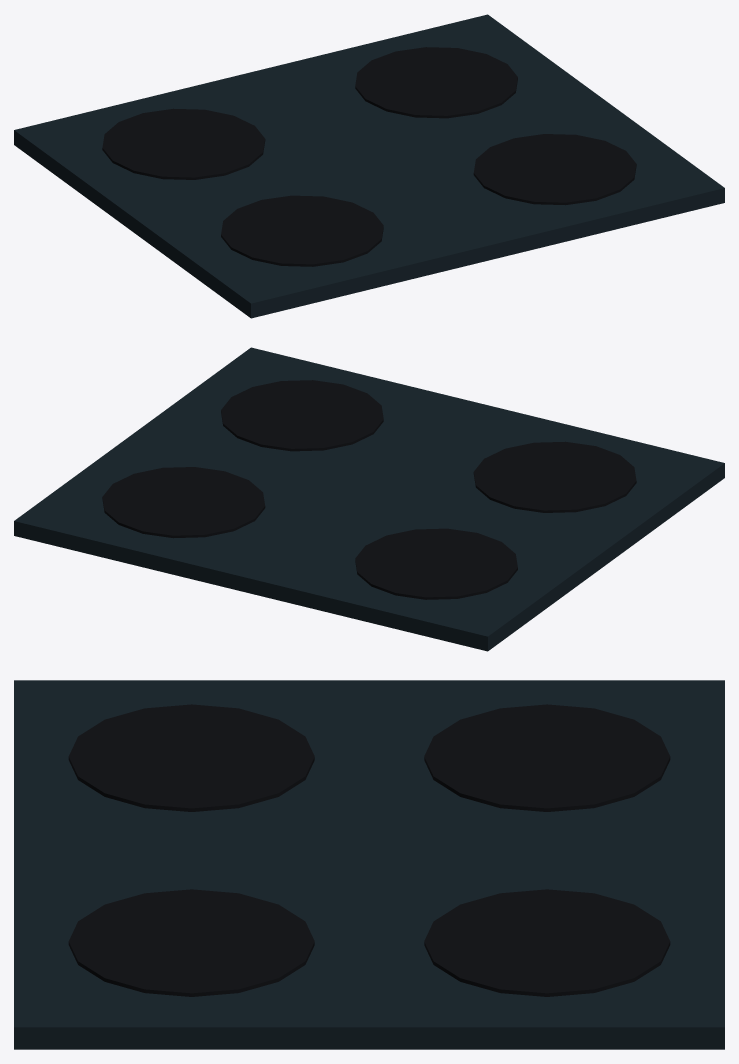
Rendered from Fozolap_60.obj.
3 renders of one model, top to bottom at view 1: azimuth 30°, elevation 25°; view 2: azimuth 150°, elevation 25°; view 3: azimuth 270°, elevation 25°, orthographic. The views are drawn at different scales.
Bounding box in the file's own units: 0.6 × 0.022 × 0.52.
